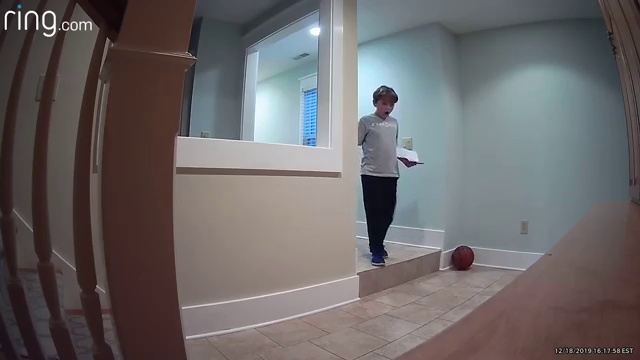face: (376, 91, 396, 116)
